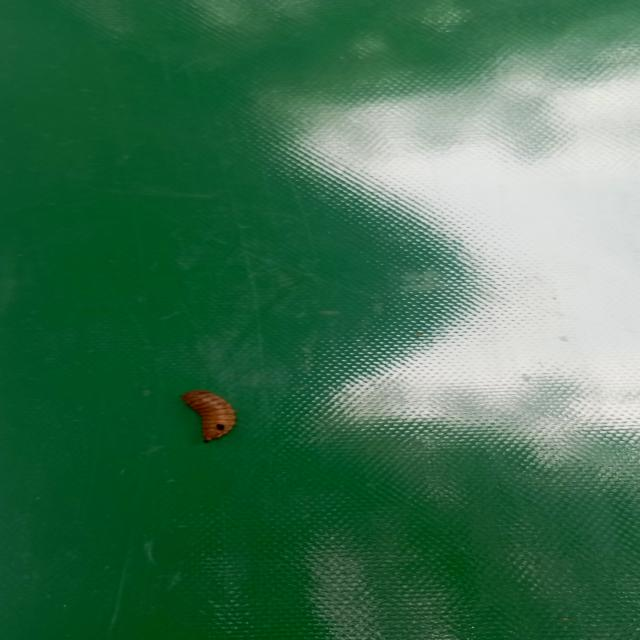Maggot: (182, 390, 237, 443)
